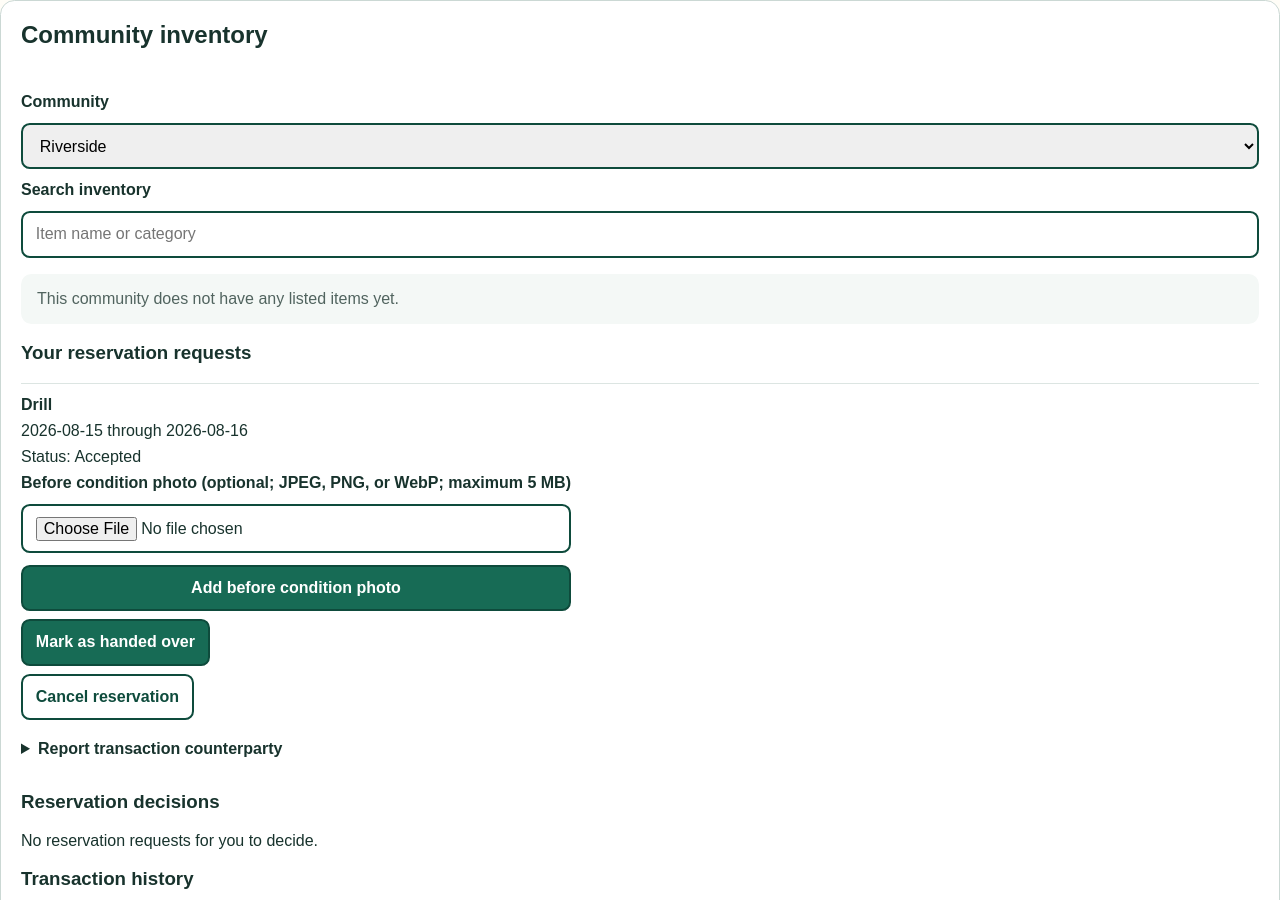
it: ItemSection › advances accepted handover and checked-out return from authoritative refreshes
Click the button with aria-label "Mark Drill as handed over". click: (115, 642)
box: [21,619,210,666]
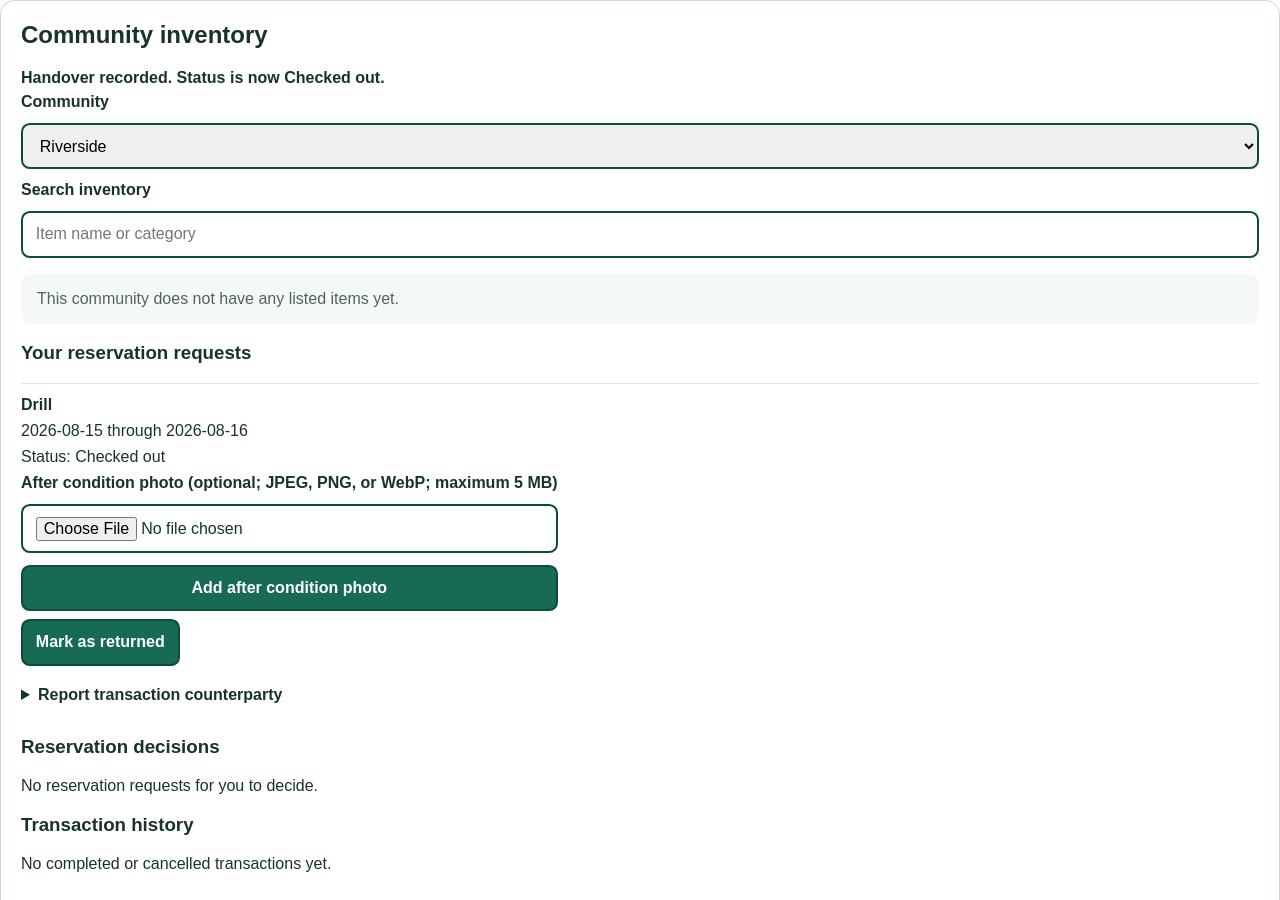
Result: the text "Status: Checked out" is shown at [21,448,165,466]
Click the button with aria-label "Mark Drill as returned". click: (100, 642)
box: [21,619,180,666]
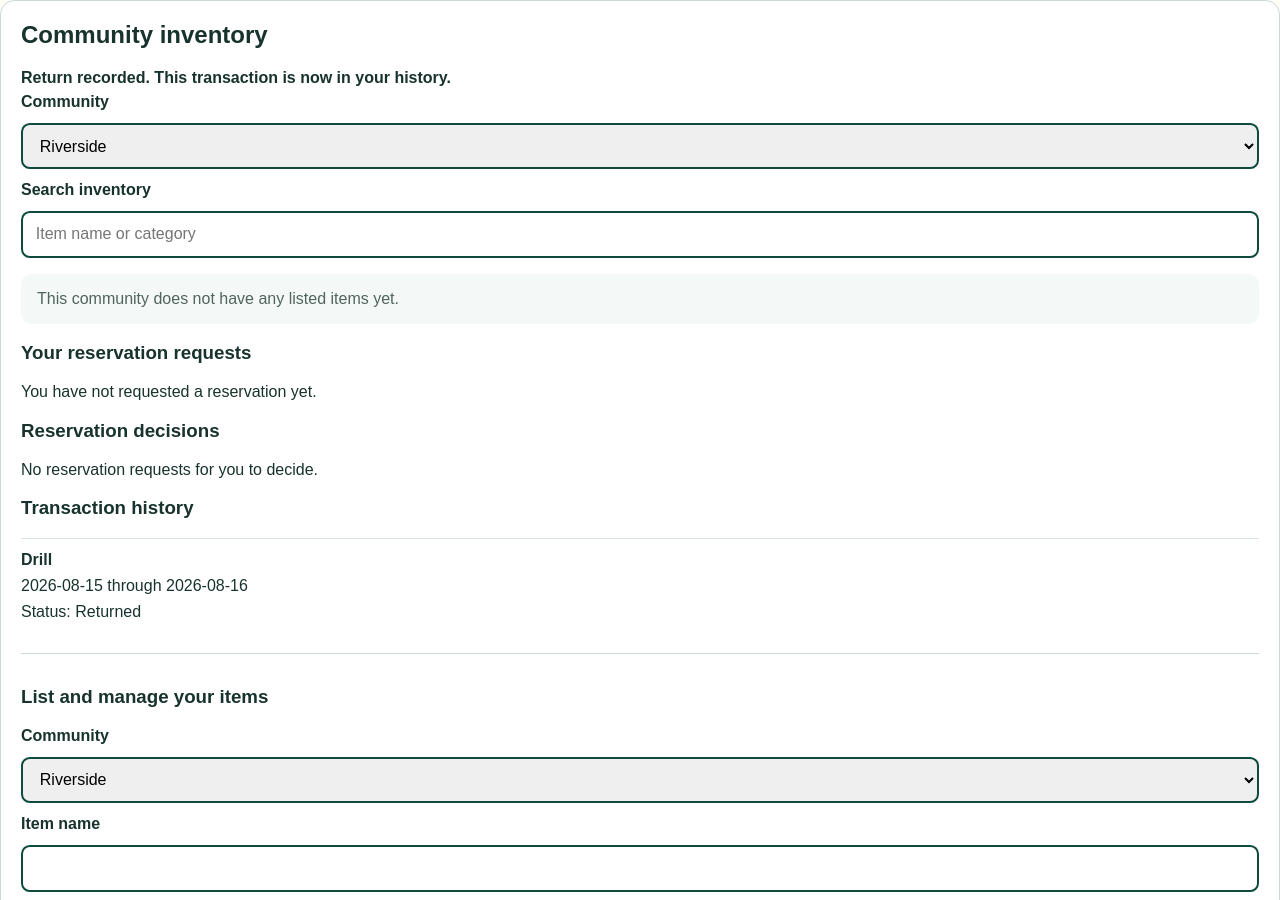
Expected: the heading "Transaction history" is shown, [21,497,194,518]
Result: the text "Status: Returned" is shown at [21,603,141,621]
